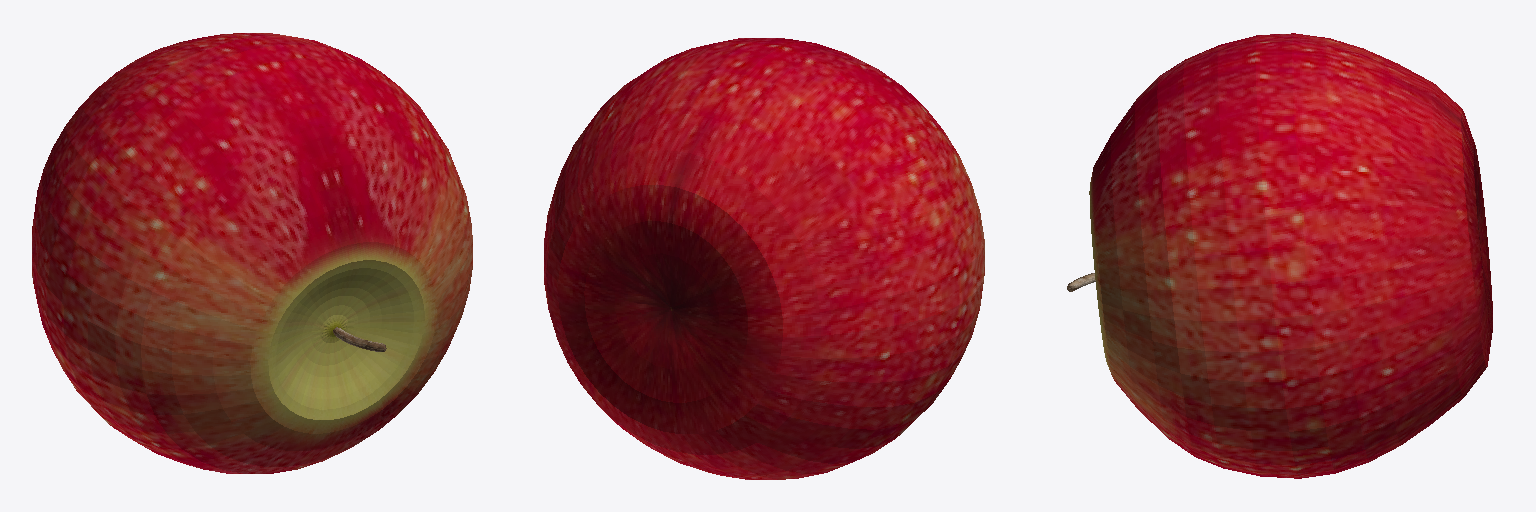
3 renders of one model, left to right at view 1: azimuth 30°, elevation 25°; view 2: azimuth 150°, elevation 25°; view 3: azimuth 270°, elevation 25°, orthographic.
Visible parts, largest first — view 1: Sphere001; view 2: Sphere001; view 3: Sphere001.
Part boxes in pixels (x1,y1,x2,y2): Sphere001: (32,33,472,473); Sphere001: (544,38,984,479); Sphere001: (1067,33,1492,478).
Bounding box in the file's own units: 34.96 × 34.93 × 33.43.
1 materials, 1 textured.